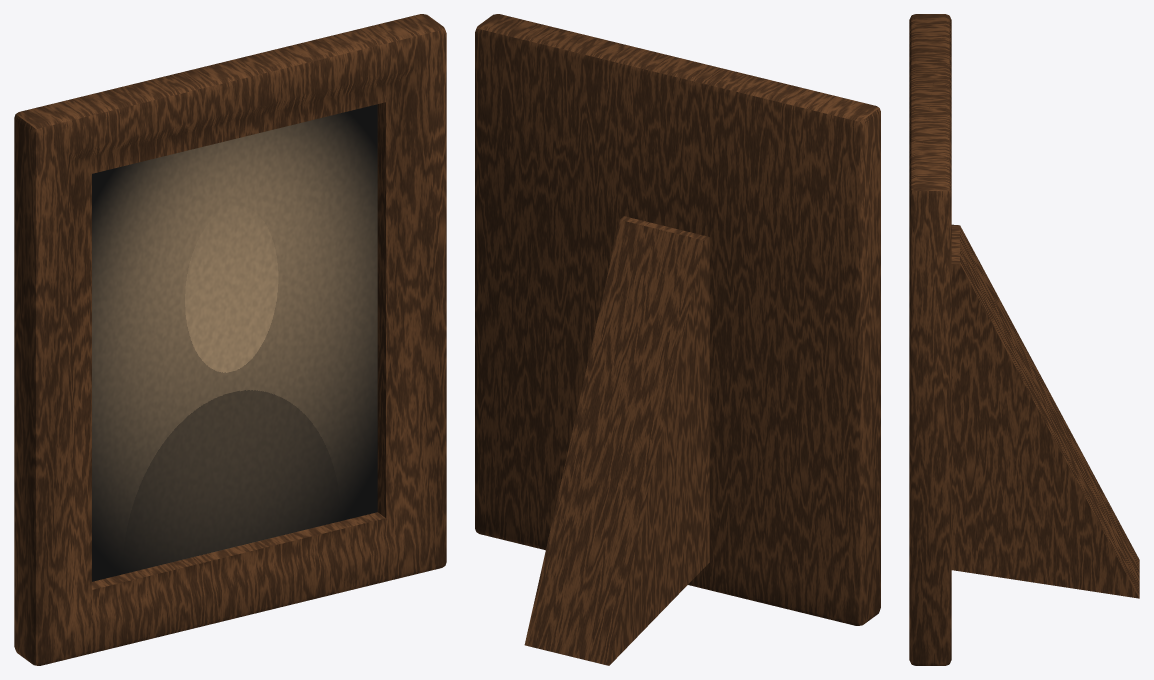
The model's file is portarretratos.obj.
3 views of the same model, side by side, from view 1: azimuth 30°, elevation 25°; view 2: azimuth 150°, elevation 25°; view 3: azimuth 270°, elevation 25° (orthographic). The views are drawn at different scales.
Parts seen in each view (by area): view 1: Portarretratos; view 2: Portarretratos; view 3: Portarretratos.
Part boxes in pixels (box(x1,y1,x2,y2)): Portarretratos: box(14, 14, 446, 665); Portarretratos: box(475, 14, 880, 665); Portarretratos: box(909, 14, 1139, 665).
Bounding box in the file's own units: 0.2 × 0.25 × 0.109.
2 materials, 2 textured.
